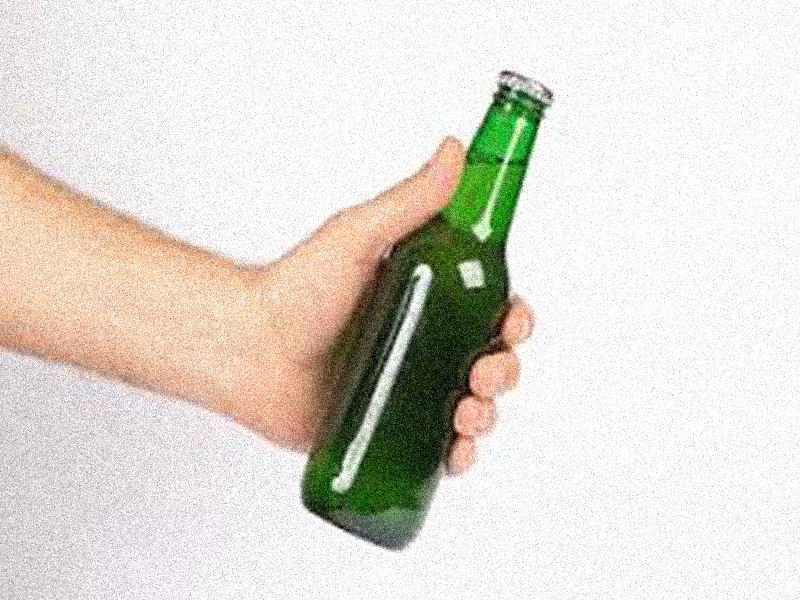Beer: (300, 68, 551, 545)
